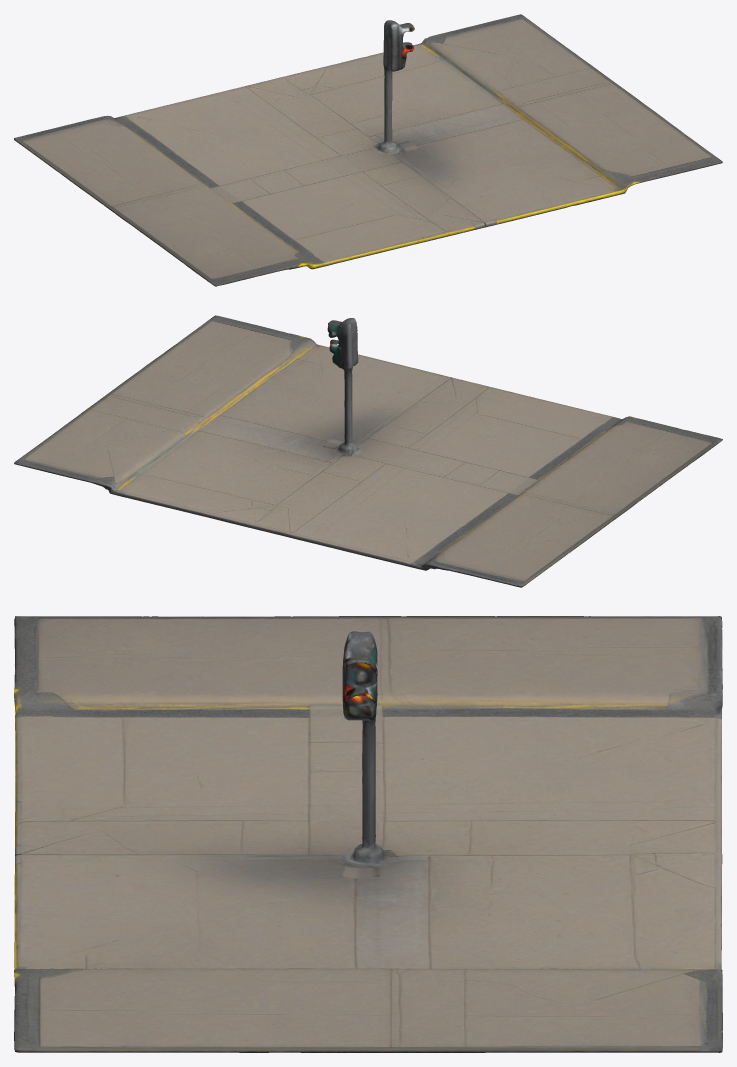
File: AI_SidewalkCorner.fbx
3 views of the same model, one above another, from view 1: azimuth 30°, elevation 25°; view 2: azimuth 150°, elevation 25°; view 3: azimuth 270°, elevation 25° (orthographic). The views are drawn at different scales.
Parts seen in each view (by area): view 1: Mesh_0; view 2: Mesh_0; view 3: Mesh_0.
Boxes of the visible parts, x1,y1,x2,y2 form: Mesh_0: [14, 14, 722, 286]; Mesh_0: [14, 315, 722, 587]; Mesh_0: [14, 616, 722, 1052].
Size of the model in its own units: 200 by 50.15 by 138.
1 material, 1 textured.
